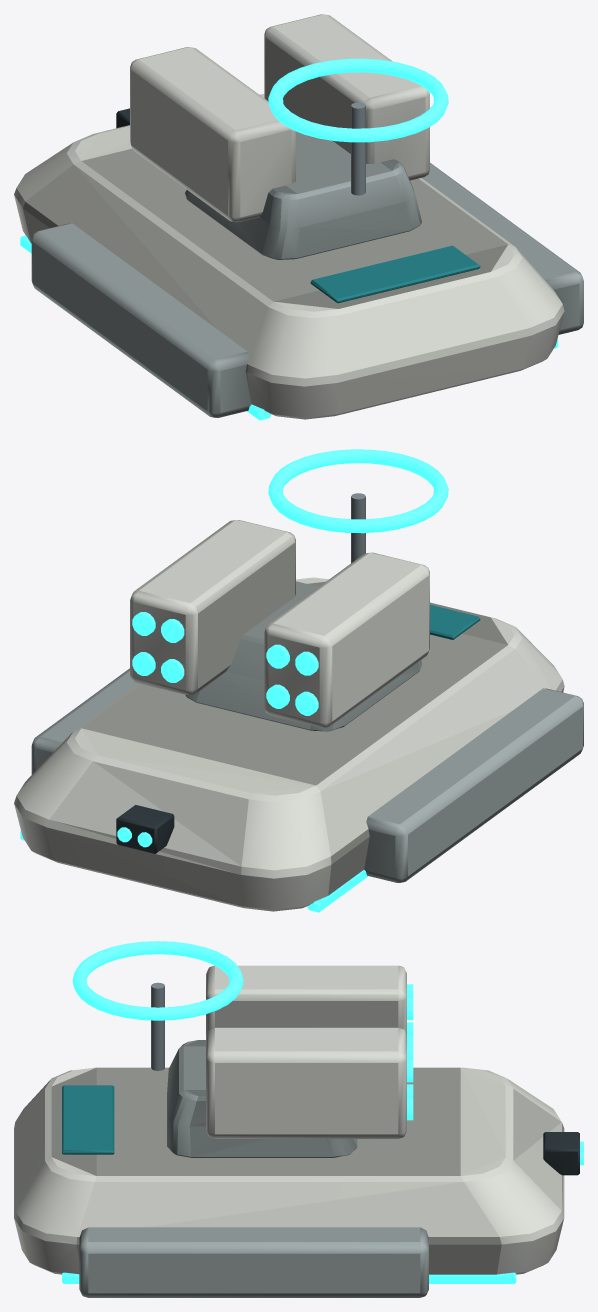
Rendered from HaloSkimmer.glb.
3 renders of one model, top to bottom at view 1: azimuth 30°, elevation 25°; view 2: azimuth 150°, elevation 25°; view 3: azimuth 270°, elevation 25°, orthographic. The views are drawn at different scales.
Visible parts, largest first — view 1: export_helix_HaloSkimmer_Hull, export_helix_HaloSkimmer_Launcher, export_helix_HaloSkimmer_Mount, export_helix_HaloSkimmer_HaloRing; view 2: export_helix_HaloSkimmer_Hull, export_helix_HaloSkimmer_Launcher, export_helix_HaloSkimmer_Mount, export_helix_HaloSkimmer_HaloRing; view 3: export_helix_HaloSkimmer_Hull, export_helix_HaloSkimmer_Launcher, export_helix_HaloSkimmer_Mount, export_helix_HaloSkimmer_HaloRing.
Boxes of the visible parts, x1,y1,x2,y2 form: export_helix_HaloSkimmer_Hull: (14, 94, 583, 420); export_helix_HaloSkimmer_Launcher: (130, 14, 429, 222); export_helix_HaloSkimmer_Mount: (185, 102, 421, 259); export_helix_HaloSkimmer_HaloRing: (268, 58, 448, 142); export_helix_HaloSkimmer_Hull: (14, 577, 583, 912); export_helix_HaloSkimmer_Launcher: (130, 520, 429, 727); export_helix_HaloSkimmer_Mount: (185, 493, 421, 731); export_helix_HaloSkimmer_HaloRing: (268, 449, 448, 533); export_helix_HaloSkimmer_Hull: (14, 1067, 583, 1297); export_helix_HaloSkimmer_Launcher: (206, 965, 413, 1138); export_helix_HaloSkimmer_Mount: (151, 982, 357, 1157); export_helix_HaloSkimmer_HaloRing: (72, 941, 243, 1020).
Size of the model in its own units: 2.35 by 1.52 by 3.26.
